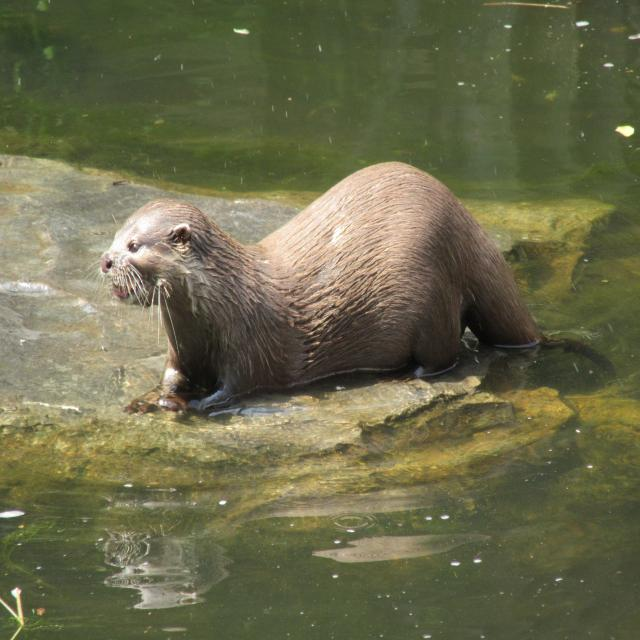otter: (103, 163, 526, 404)
